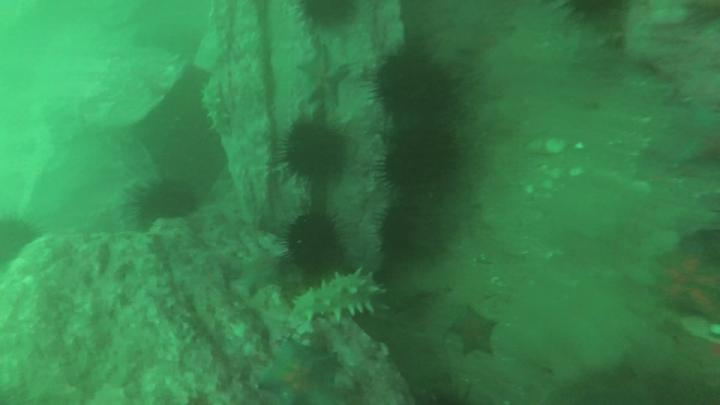echinus: (375, 53, 455, 125), (385, 135, 452, 192), (287, 124, 346, 183), (380, 208, 440, 263), (289, 213, 343, 272), (134, 181, 196, 228), (301, 2, 356, 27), (2, 222, 35, 262)
holothurian: (295, 270, 381, 322), (199, 78, 233, 138)
starfish: (658, 245, 720, 330), (267, 343, 343, 405), (299, 49, 349, 108), (451, 305, 499, 356), (237, 249, 283, 293)
